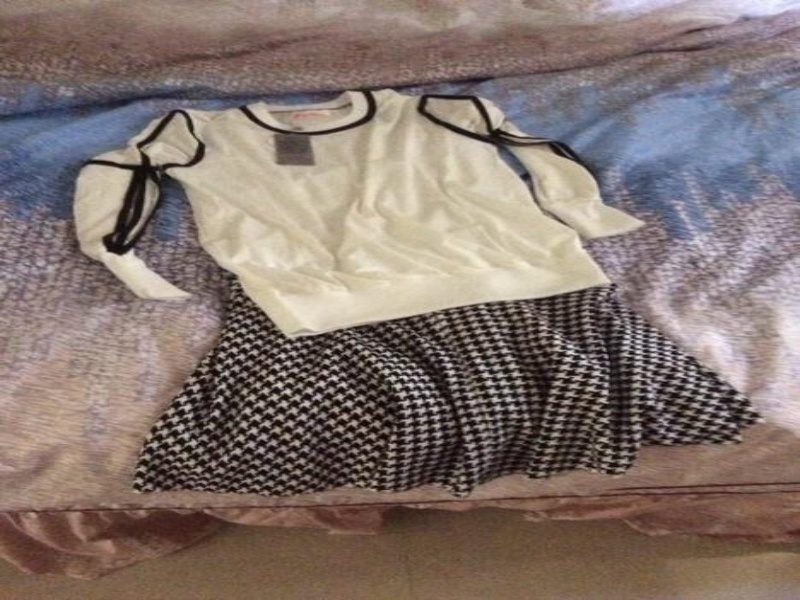long_sleeved_shirt: (70, 90, 648, 339)
skirt: (126, 275, 764, 499)
